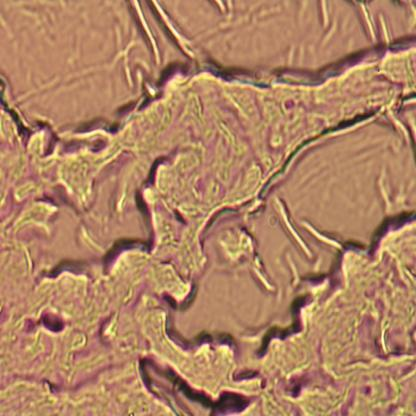Stage I: (0, 40, 416, 416)
